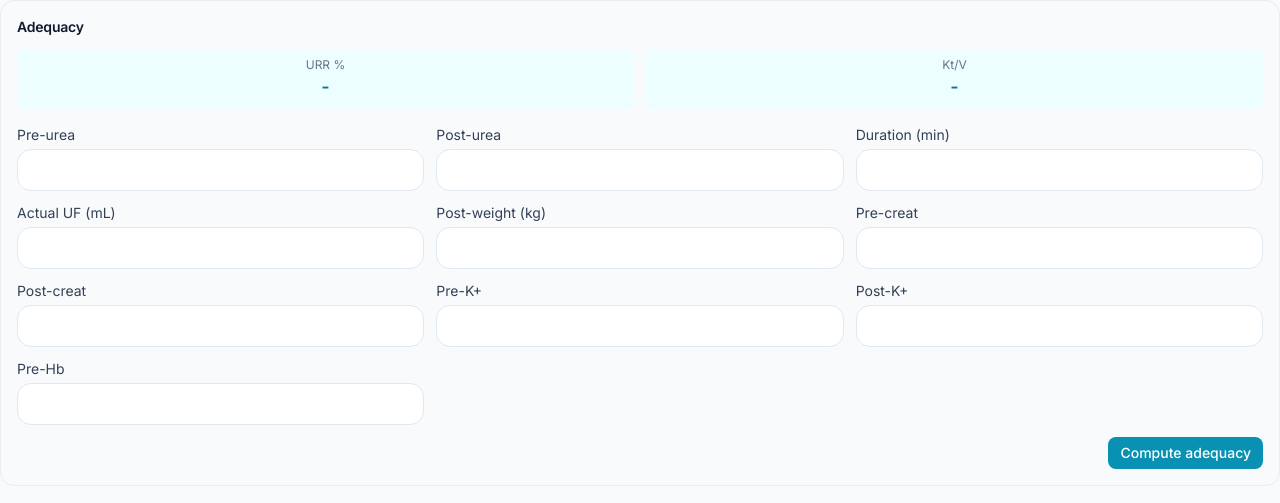
AdequacyPanel › computes and displays URR + Kt/V on submit
Type "30" into the number field labelled "Pre-urea". click: (221,170)
box: [17,149,424,191]
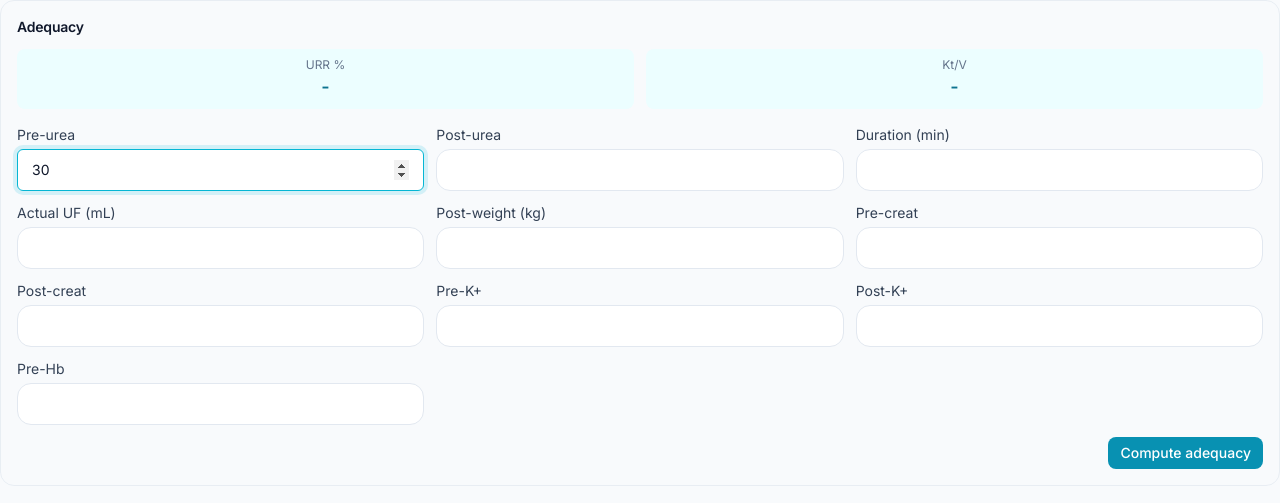
Type "9" into the number field labelled "Post-urea". click: (640,170)
box: [436,149,844,191]
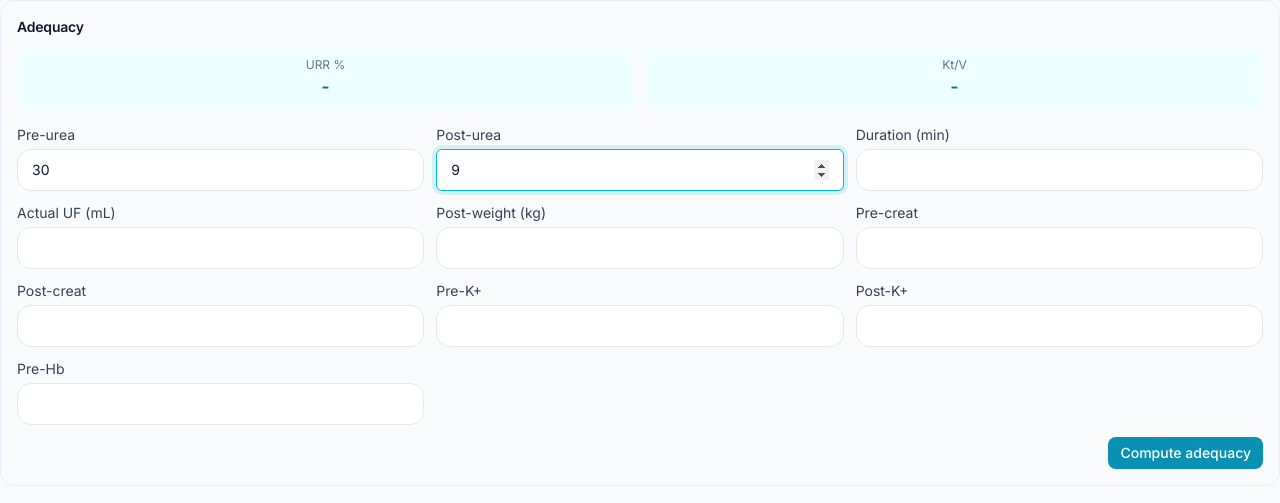
Type "240" into the number field labelled "Duration (min)". click: (1059,170)
box: [856,149,1263,191]
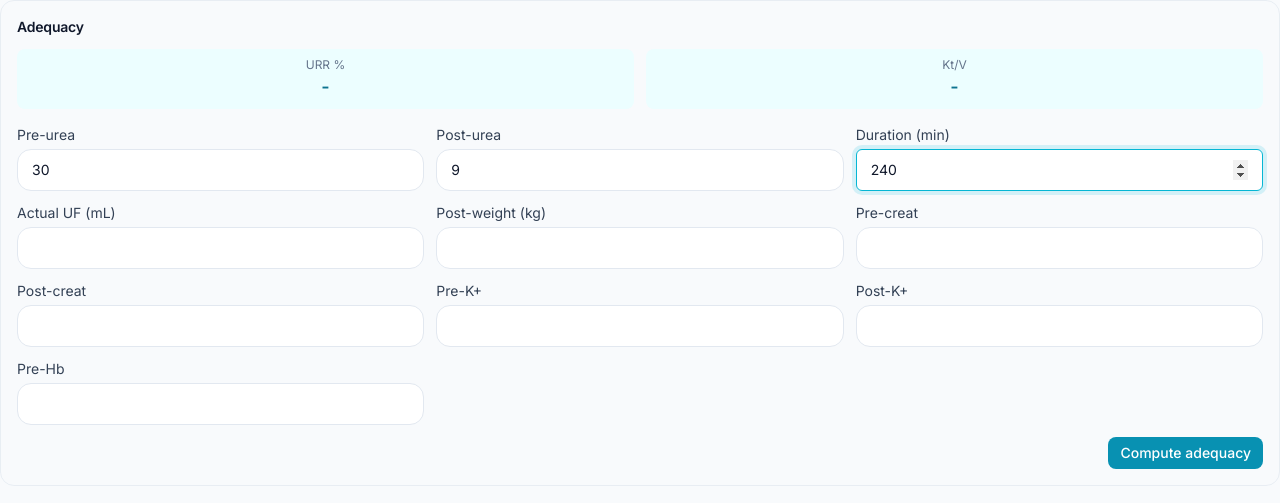
Type "2500" into the number field labelled "Actual UF (mL)". click: (221,248)
box: [17,227,424,269]
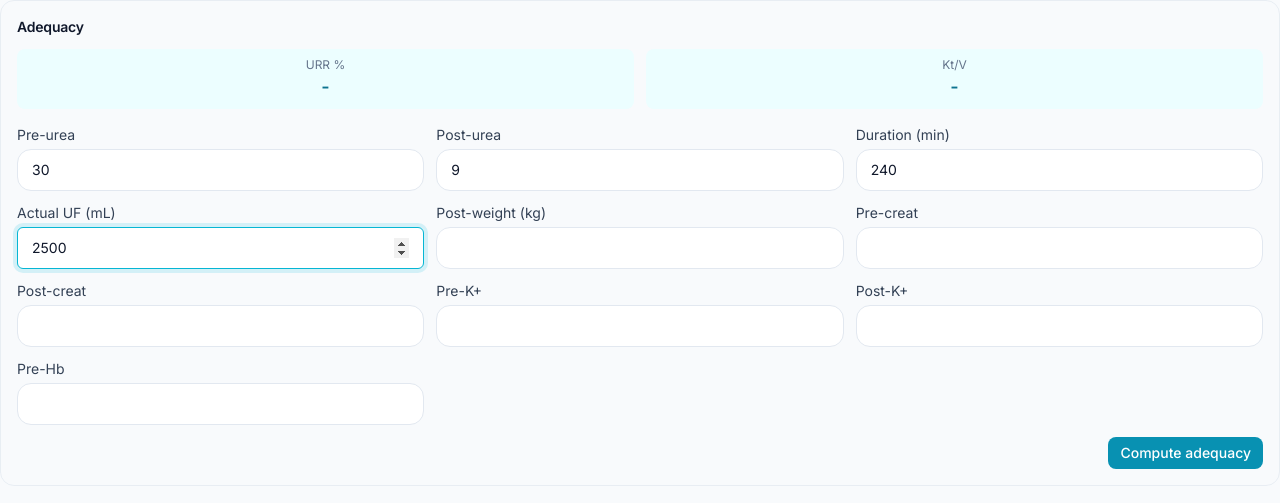
Type "70" into the number field labelled "Post-weight (kg)". click: (640,248)
box: [436,227,844,269]
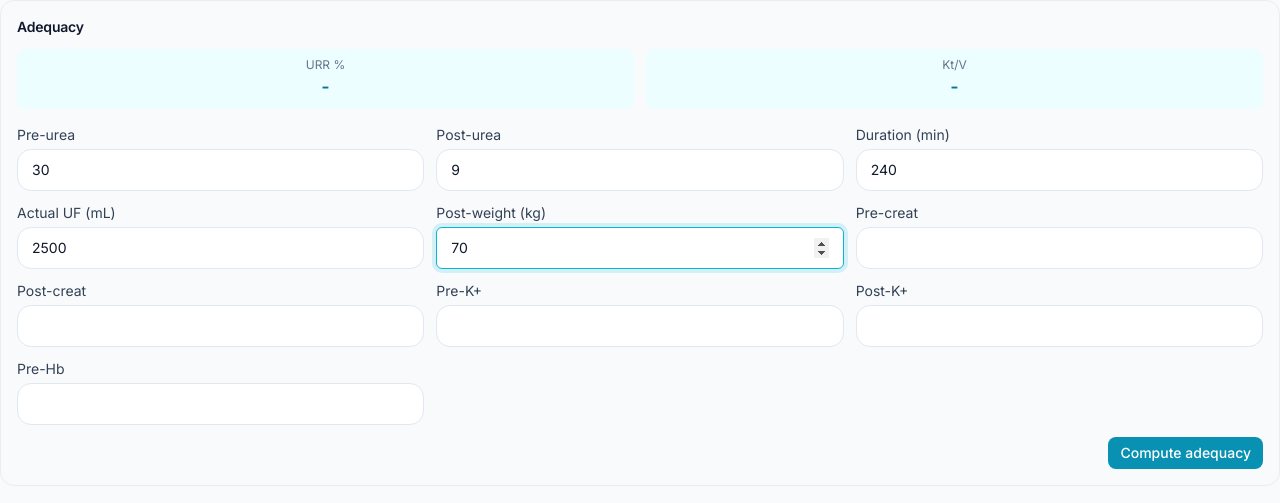
Click the button "Compute adequacy". click: (1186,453)
box: [1108,437,1263,469]
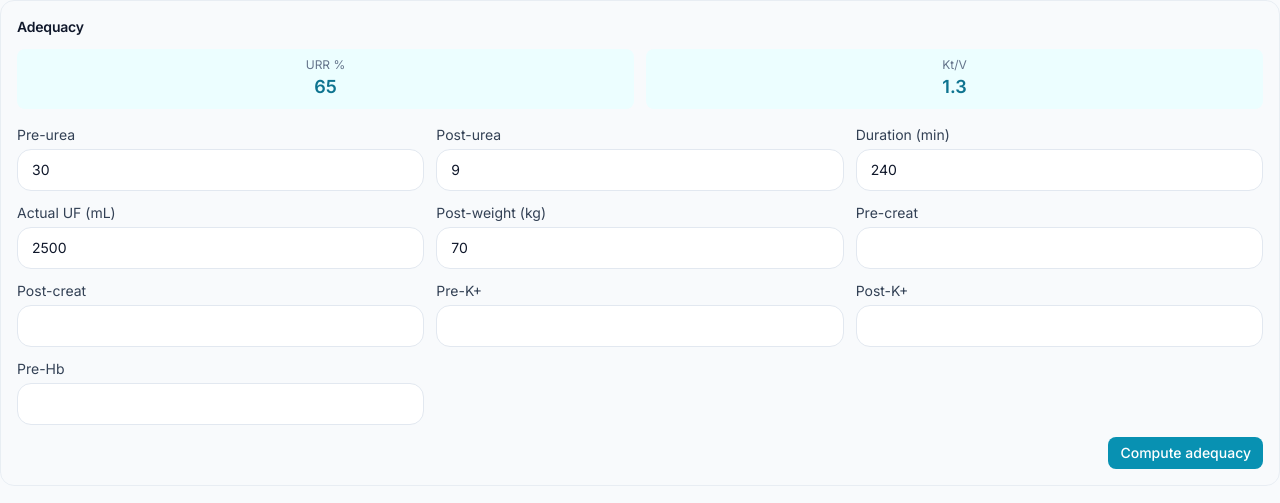
Now the text "65" is shown, box [314,76,337,97]
